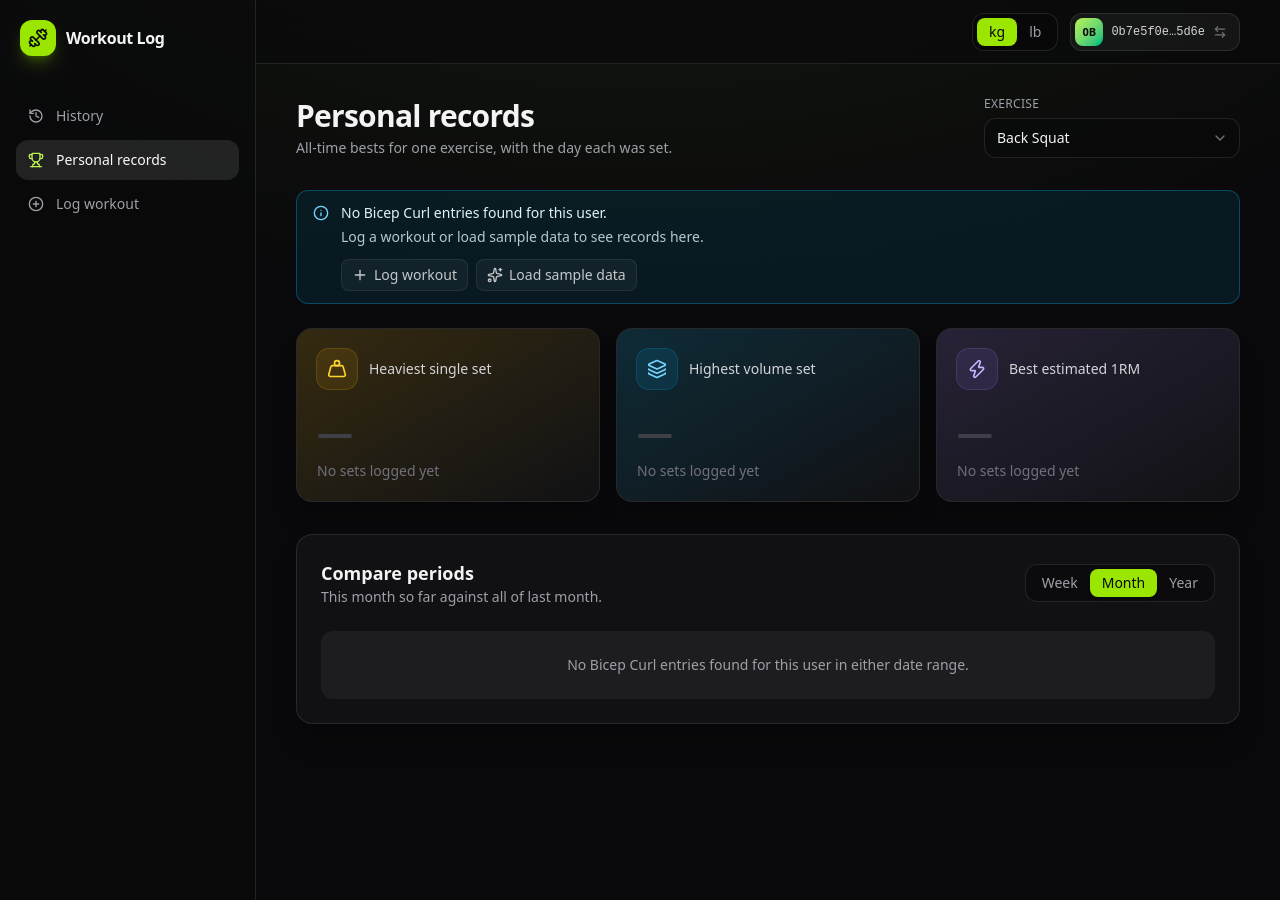
Test: LoadSampleDataButton › says when this client already had the sample data
This screenshot has width=1280, height=900.
Click the button "Load sample data": (556, 275) top-left (476, 259), bottom-right (637, 291)
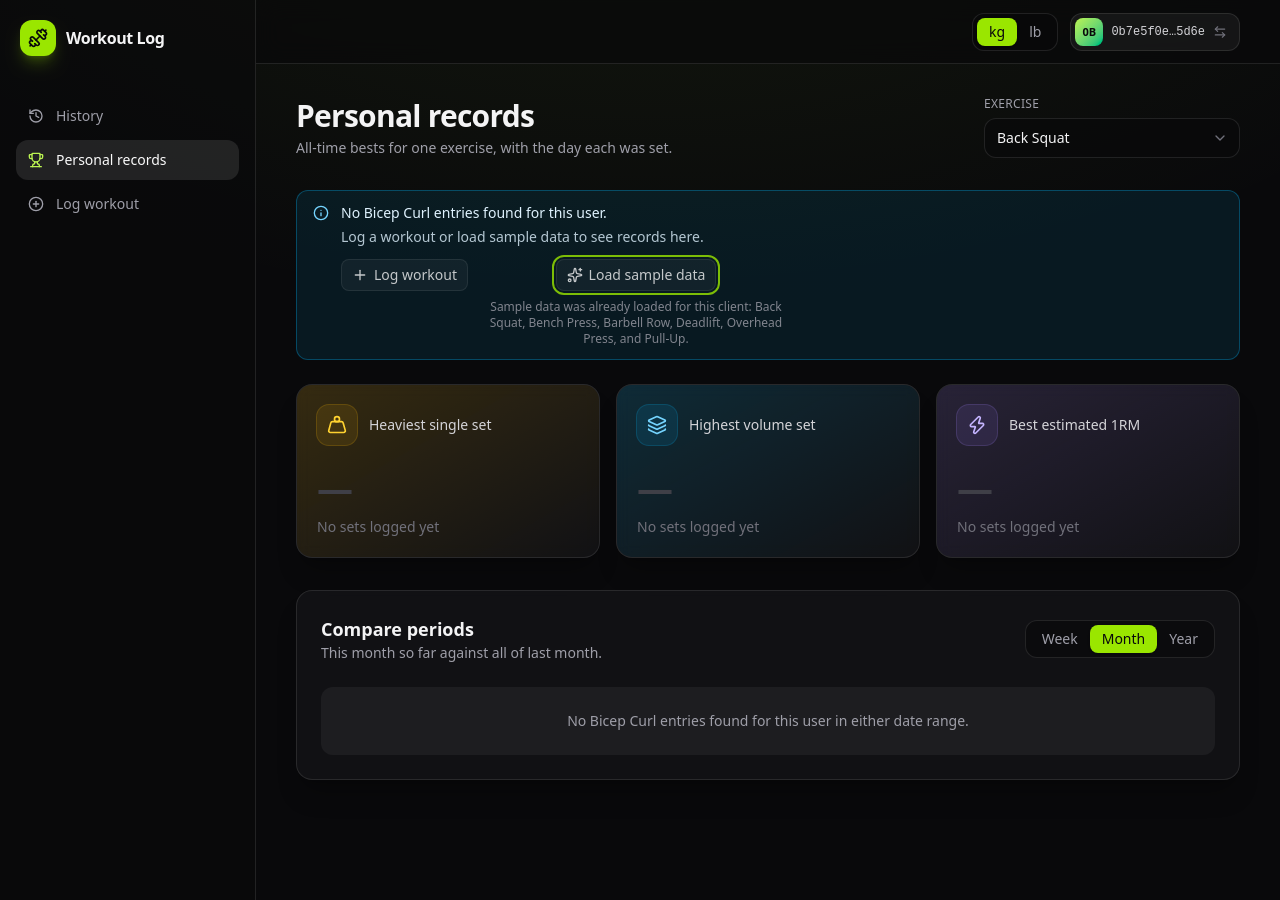
Result: the text "Sample data was already loaded for this client: Back Squat, Bench Press, Barbell Row, Deadlift, Overhead Press, and Pull" is shown at top-left (490, 298), bottom-right (782, 347)
